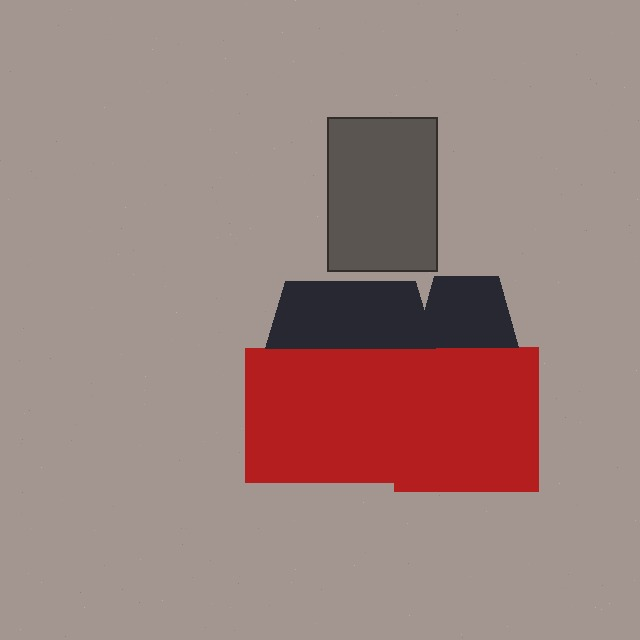concrete_damage: (327, 117, 437, 271)
vehicle: (245, 281, 455, 482), (394, 276, 538, 491)
